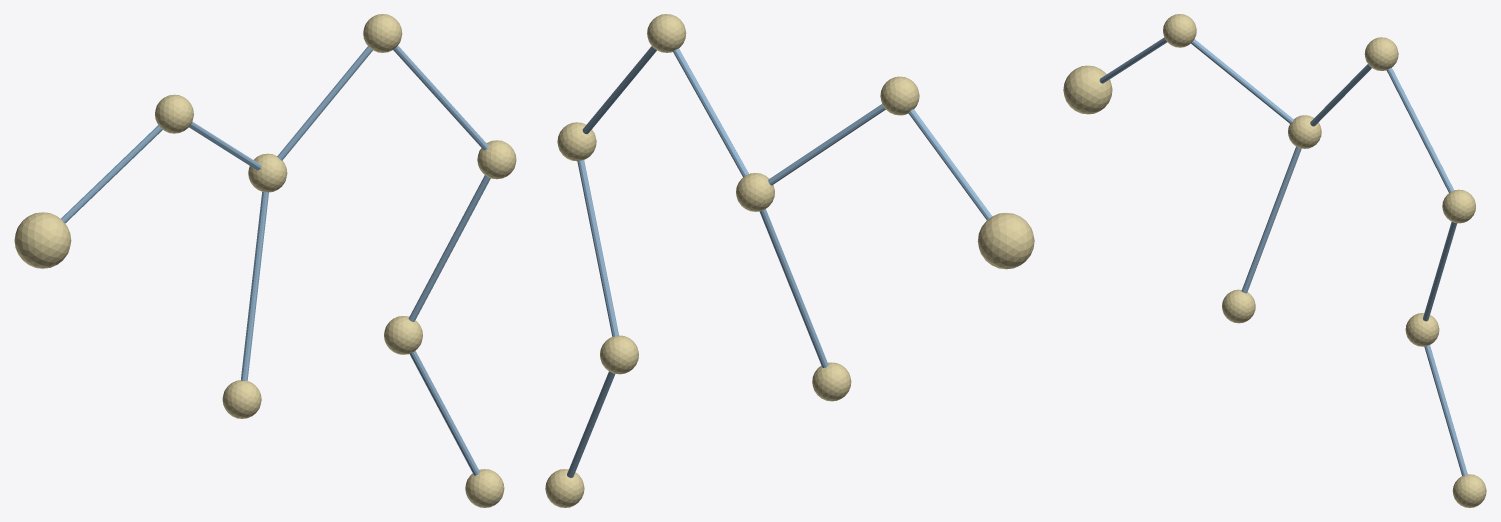
The model's file is aquario.glb.
3 renders of one model, left to right at view 1: azimuth 30°, elevation 25°; view 2: azimuth 150°, elevation 25°; view 3: azimuth 330°, elevation 25°, orthographic. The views are drawn at different scales.
Parts seen in each view (by area): view 1: world; view 2: world; view 3: world.
Part boxes in pixels (x1,y1,x2,y2): world: (14, 14, 516, 507); world: (545, 14, 1034, 507); world: (1063, 14, 1486, 507).
Bounding box in the file's own units: 2.84 × 2.9 × 0.4614.
